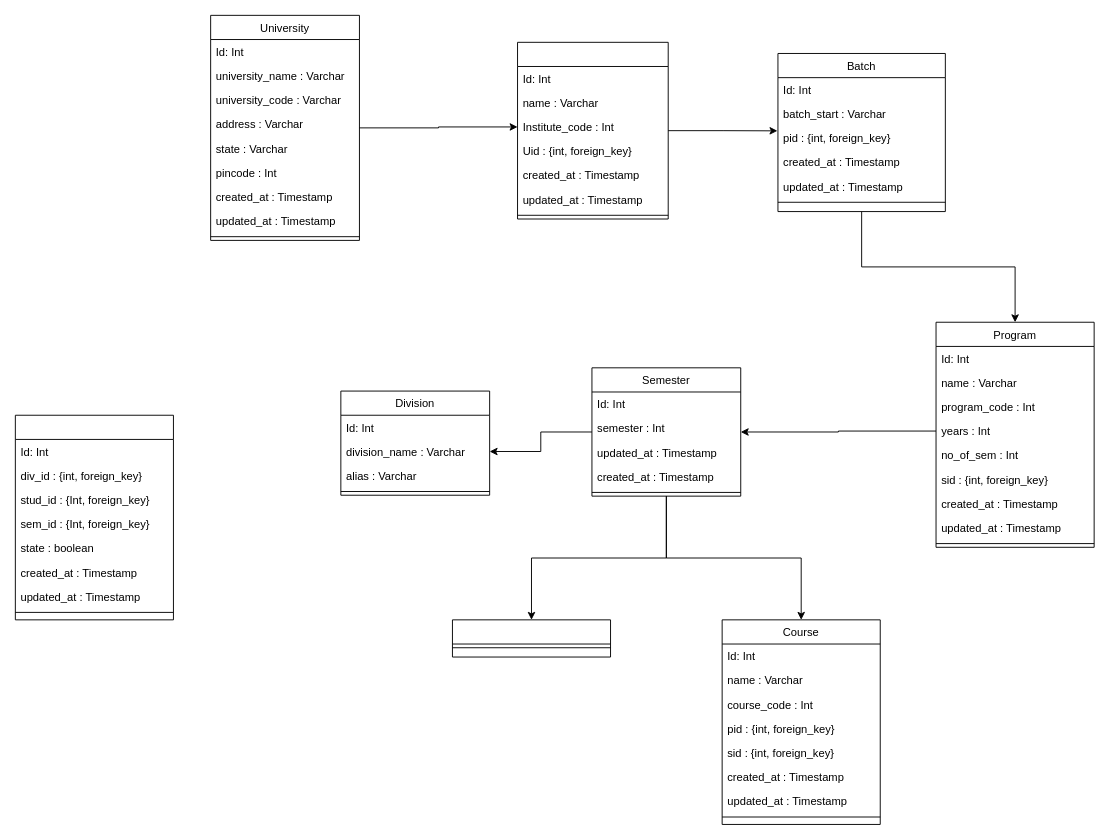
This 1109x840 diagram has some shape labels left out. Each missing label, with the box of its shape:
School: (517, 41, 668, 219)
Student: (452, 619, 611, 657)
Transaction: (14, 414, 173, 620)
